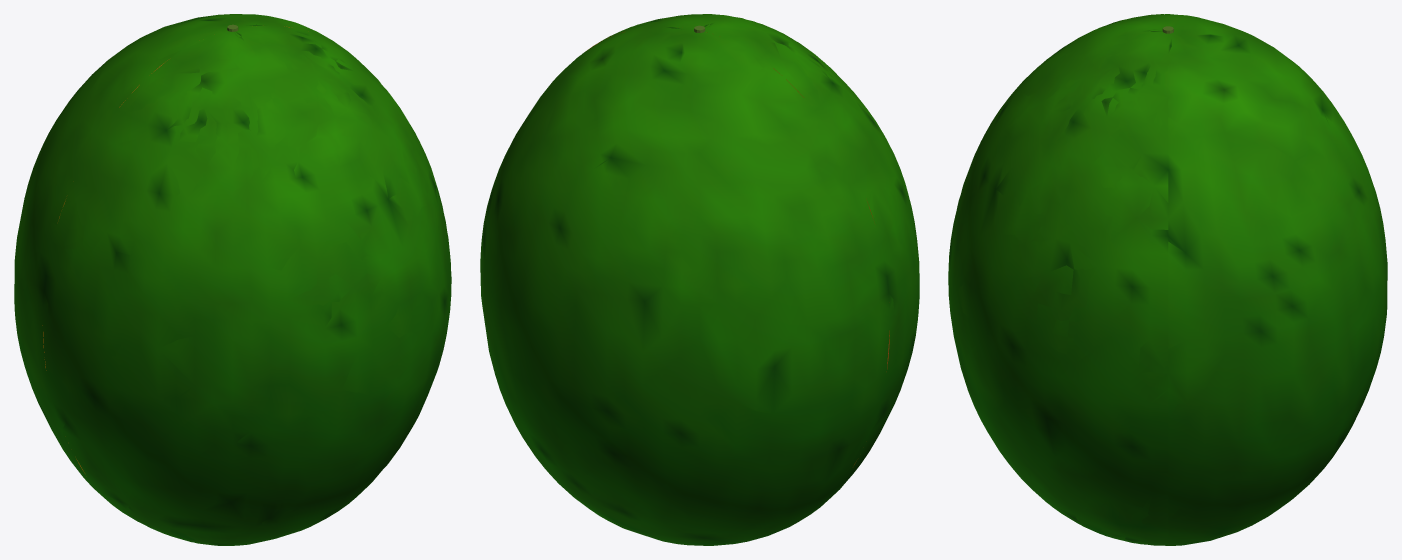
File: citron-vert.glb
3 renders of one model, left to right at view 1: azimuth 30°, elevation 25°; view 2: azimuth 150°, elevation 25°; view 3: azimuth 270°, elevation 25°, orthographic.
Visible parts, largest first — view 1: entier_peau, moitie_B_peau, moitie_A_peau; view 2: moitie_A_peau, entier_peau, moitie_B_peau; view 3: entier_peau, moitie_A_peau, moitie_B_peau.
Boxes of the visible parts, <box> form: entier_peau: <box>14,14,451,545</box>; moitie_B_peau: <box>42,25,451,545</box>; moitie_A_peau: <box>14,14,332,492</box>; moitie_A_peau: <box>480,26,884,545</box>; entier_peau: <box>480,14,919,545</box>; moitie_B_peau: <box>604,14,919,498</box>; entier_peau: <box>948,14,1387,545</box>; moitie_A_peau: <box>1168,14,1387,545</box>; moitie_B_peau: <box>948,14,1168,545</box>.
Size of the model in its own units: 1.6 by 2.01 by 1.6.
